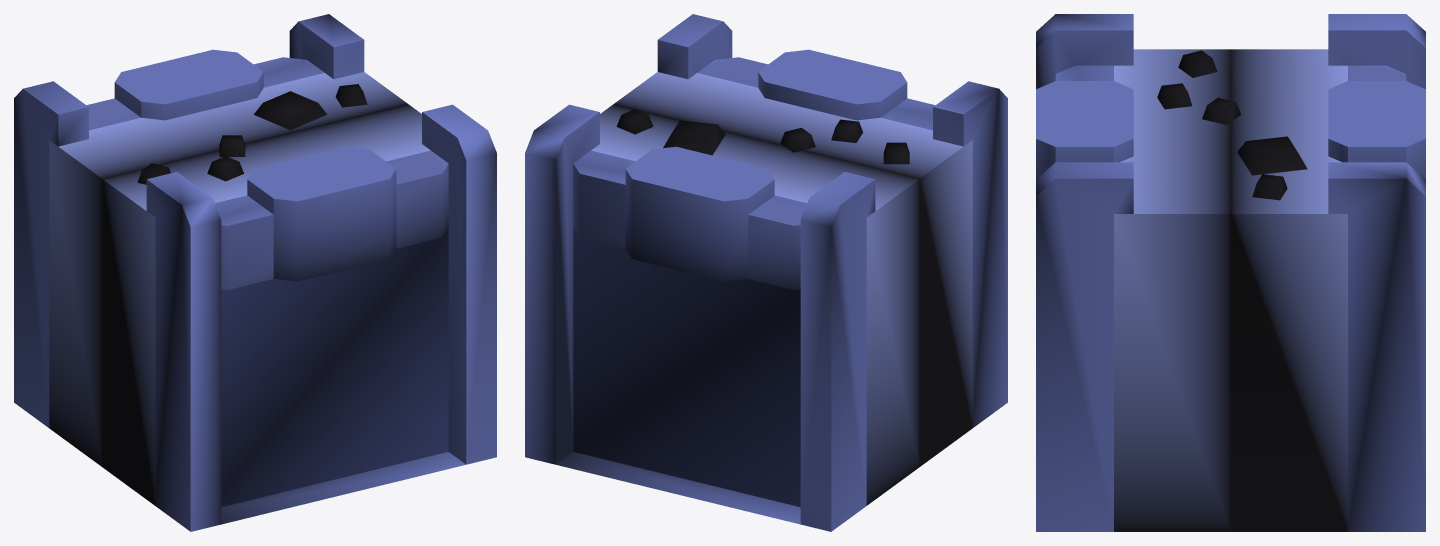
File: wall-narrow.obj
3 renders of one model, left to right at view 1: azimuth 30°, elevation 25°; view 2: azimuth 150°, elevation 25°; view 3: azimuth 270°, elevation 25°, orthographic. The views are drawn at different scales.
Parts seen in each view (by area): view 1: wall-narrow; view 2: wall-narrow; view 3: wall-narrow.
Boxes of the visible parts, box(x1,y1,x2,y2) form: wall-narrow: box(14, 14, 496, 531); wall-narrow: box(525, 14, 1007, 531); wall-narrow: box(1036, 14, 1425, 531).
Bounding box in the file's own units: 1 × 1 × 1.
